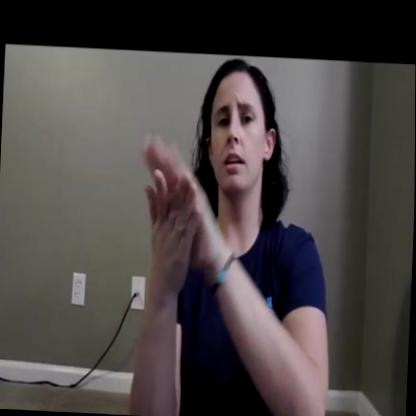NiceToMeetYou: (123, 55, 299, 312)
